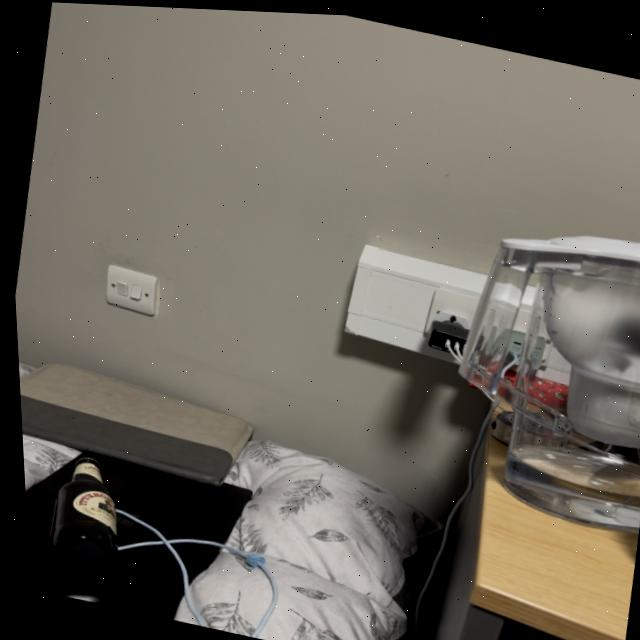beer: (29, 440, 127, 582)
